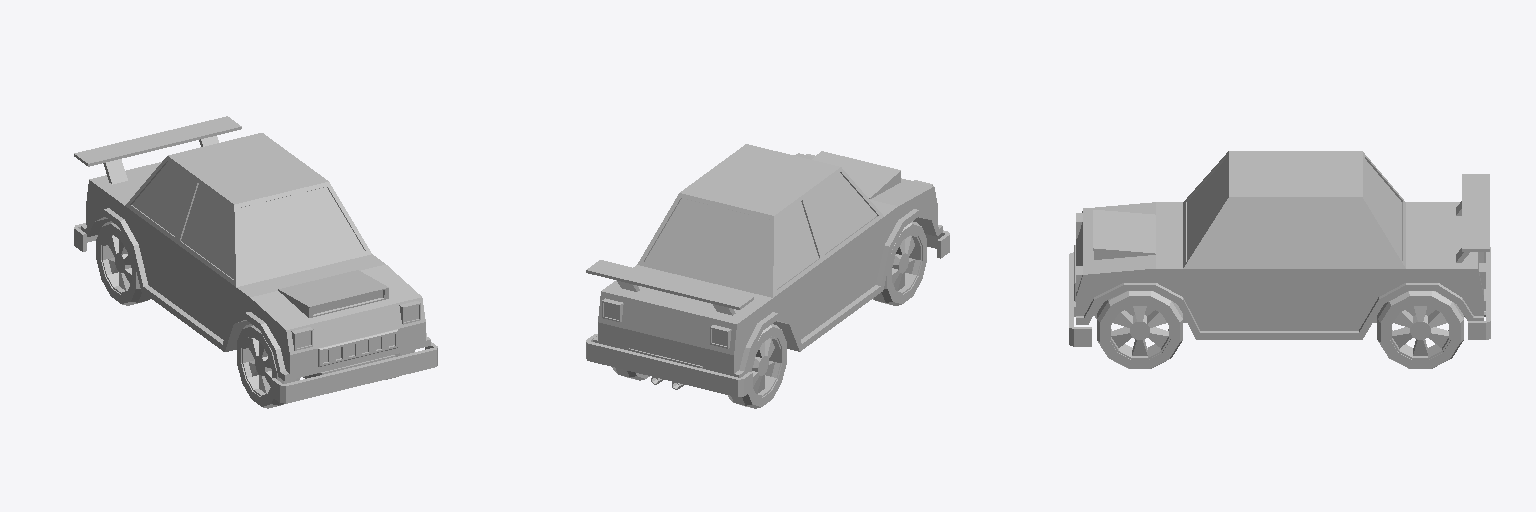
Rendered from car_04.obj.
3 renders of one model, left to right at view 1: azimuth 30°, elevation 25°; view 2: azimuth 150°, elevation 25°; view 3: azimuth 270°, elevation 25°, orthographic.
Visible parts, largest first — view 1: car_Cube; view 2: car_Cube; view 3: car_Cube.
Boxes of the visible parts, <box> form: car_Cube: <box>74,116,437,408</box>; car_Cube: <box>586,144,949,408</box>; car_Cube: <box>1069,151,1490,368</box>.
Bounding box in the file's own units: 1.02 × 1.01 × 2.36.